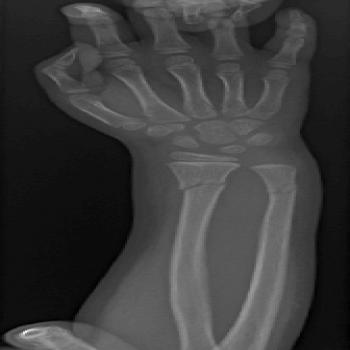Fracture: (167, 174, 236, 194), (262, 180, 313, 197)
